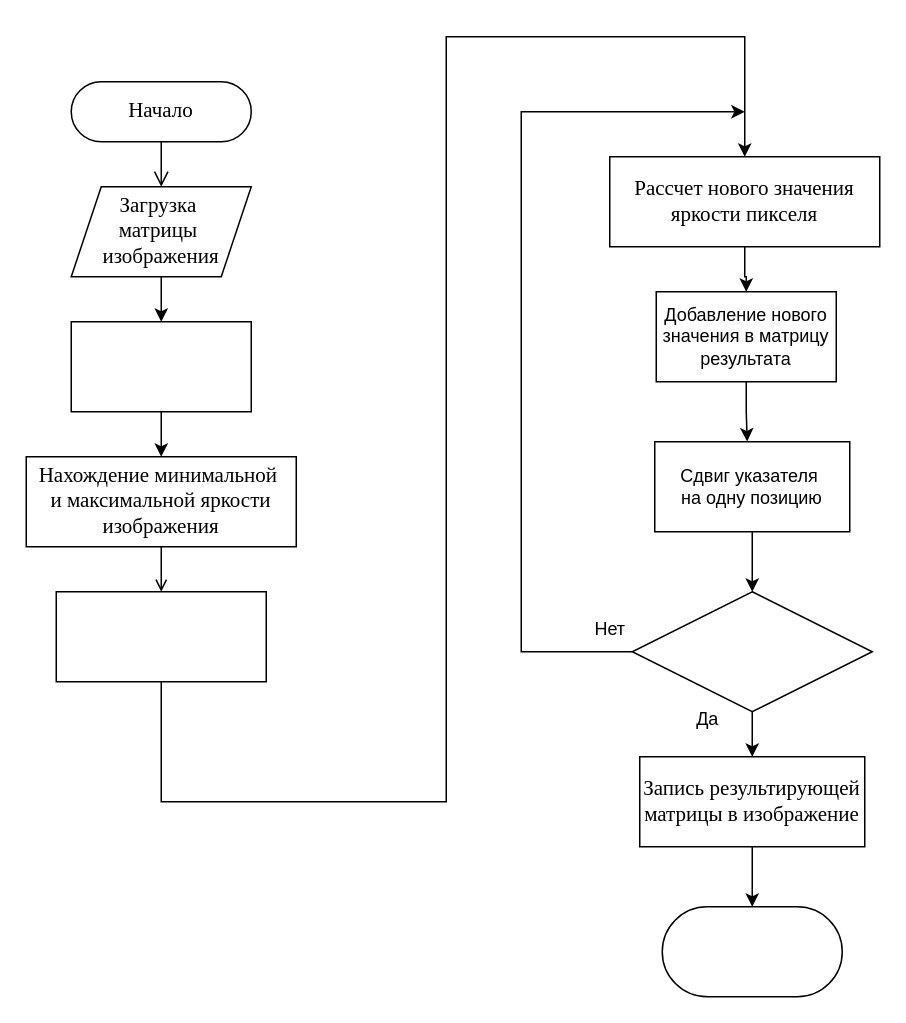
Some shapes in this 906 by 1023 pixel diagram are drawn without their labels. The shapes that lost their labels are listed below. From the top down, each one's centre as x and y in pixels, then its label:
At pixel 160 366: "Конвертация изображения в черно-белое".
At pixel 160 636: "Поставить указатель на начальный пикслель".
At pixel 751 651: "Обработаны все пиксели?".
At pixel 751 951: "Конец".
